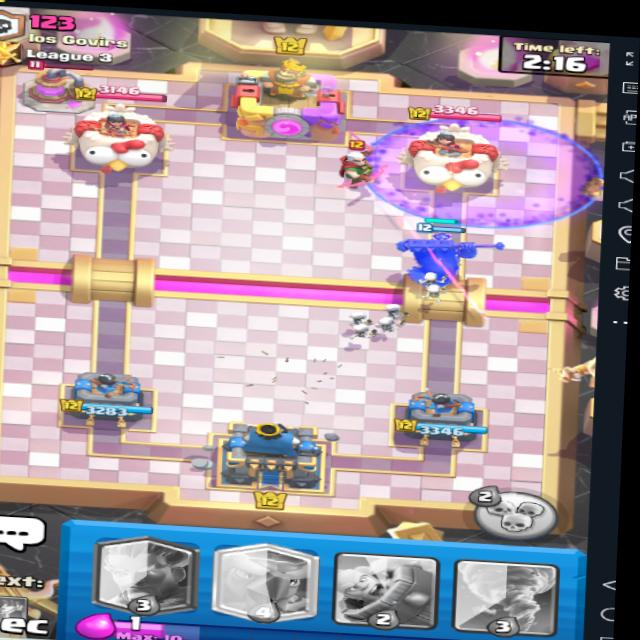elixir-collector: (22, 59, 93, 117)
magic-archer: (310, 137, 402, 194)
